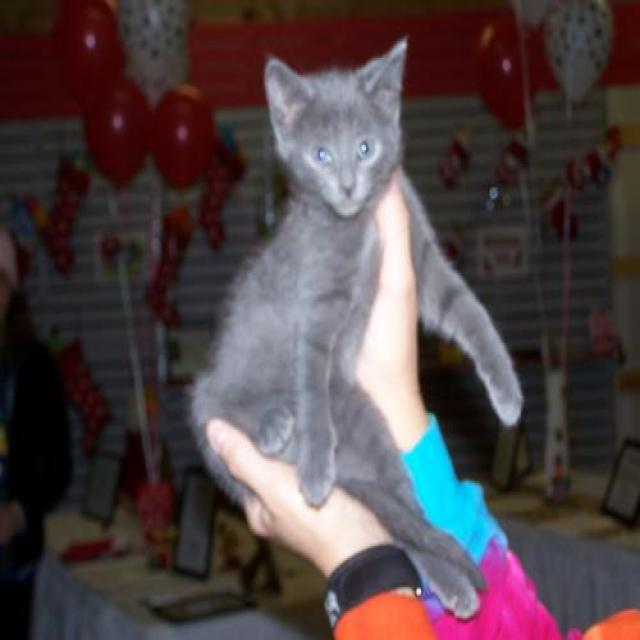Cats: (187, 34, 491, 620)
